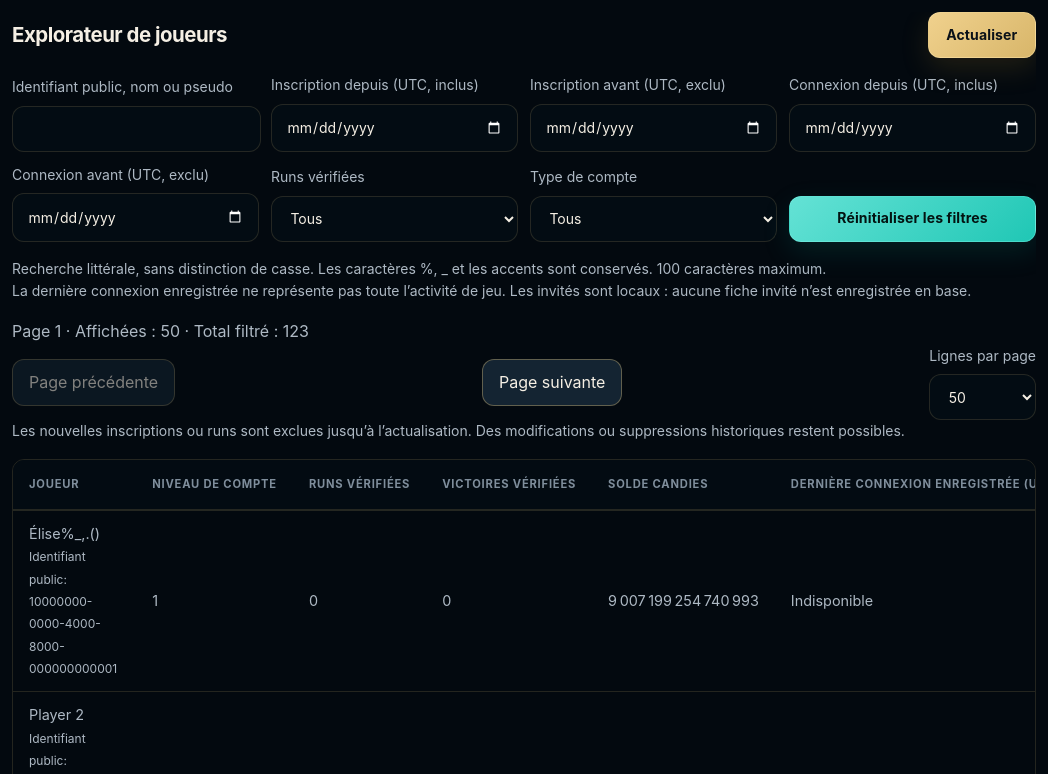
Scenario: player explorer presentation › offers only the real account states and explains why a guest search is empty
Select "Invité local" in the dropdown labelled "Type de compte". click: (654, 218)
box: [530,196,777,242]
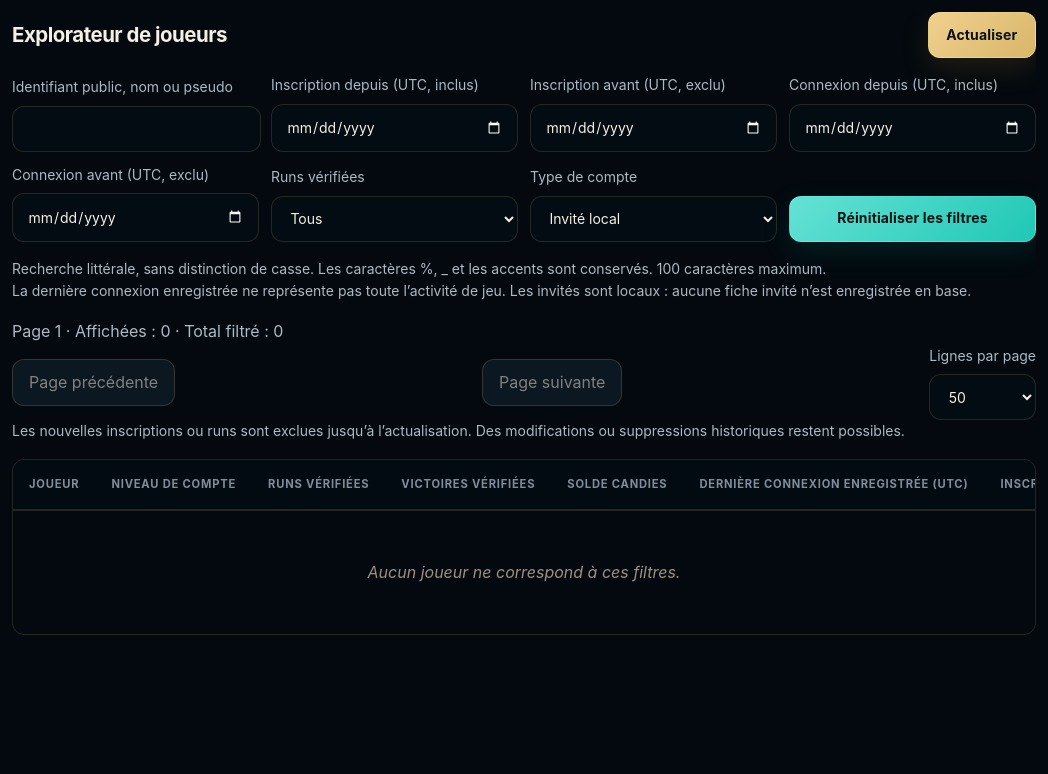
Expected: the text "Les invités sont locaux : aucune fiche invité n’est enregistrée en base." is shown, [510,282,971,299]
Expected: the text "Aucun joueur ne correspond à ces filtres." is shown, [368,562,680,582]
